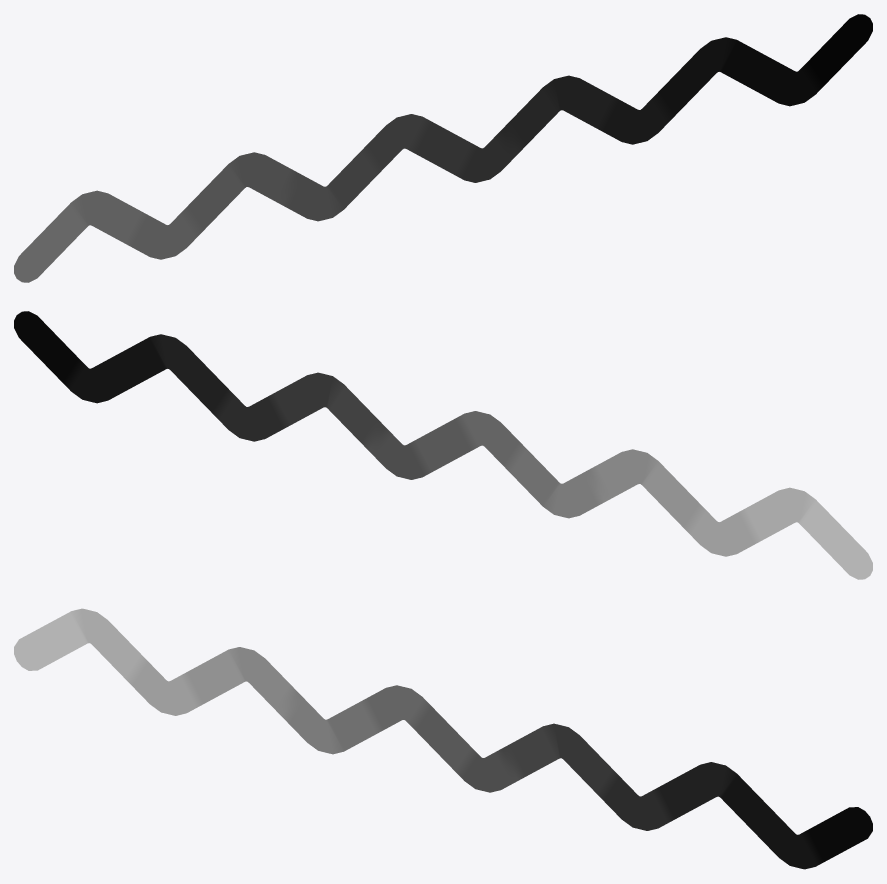
3 views of the same model, one above another, from view 1: azimuth 30°, elevation 25°; view 2: azimuth 150°, elevation 25°; view 3: azimuth 330°, elevation 25° (orthographic).
Parts seen in each view (by area): view 1: Joint_0_Object_0; view 2: Joint_0_Object_0; view 3: Joint_0_Object_0.
Part boxes in pixels (x1,y1,x2,y2): Joint_0_Object_0: (14,14,872,282); Joint_0_Object_0: (14,311,872,579); Joint_0_Object_0: (14,608,872,869).
Size of the model in its own units: 116 by 10.91 by 0.
Materials: 1 (1 with a texture image).
